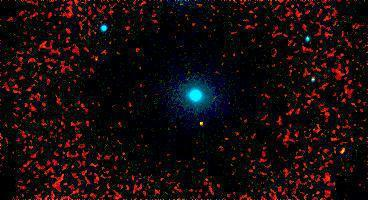star: (188, 108, 218, 138)
